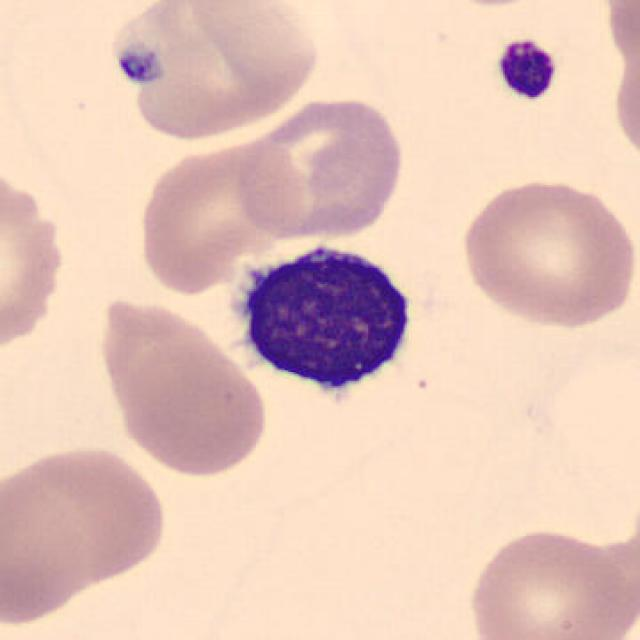Lymphocyte: (218, 230, 426, 414)
Platelets: (491, 35, 562, 104), (110, 42, 166, 88)
RBC: (92, 291, 274, 481), (0, 439, 171, 624), (107, 0, 325, 145), (450, 173, 638, 331), (133, 130, 295, 300), (227, 92, 409, 243), (462, 522, 635, 640), (0, 150, 73, 368), (608, 18, 640, 172), (599, 0, 640, 85)
